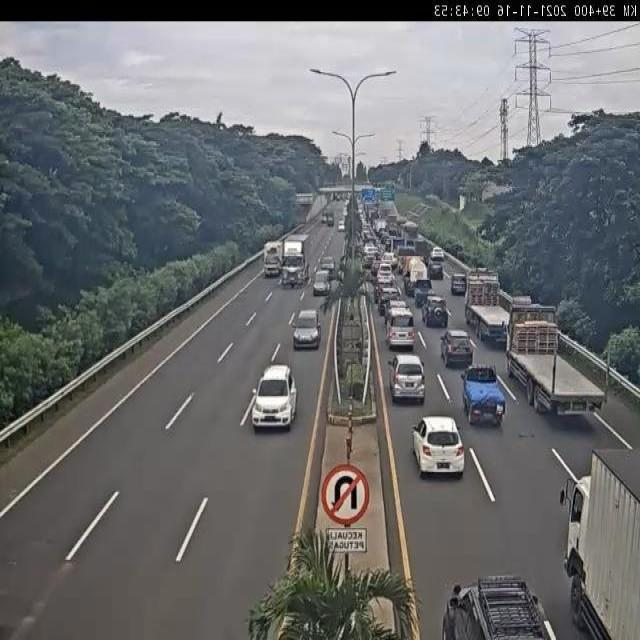Car: (412, 416, 465, 477), (252, 363, 298, 430), (460, 364, 506, 426), (388, 354, 426, 404), (291, 308, 322, 351), (440, 329, 473, 368), (422, 296, 449, 328), (384, 298, 410, 329), (378, 286, 400, 315), (313, 269, 332, 296), (450, 272, 467, 296), (380, 252, 398, 273), (427, 259, 444, 280), (370, 257, 383, 277), (362, 250, 374, 268), (363, 230, 373, 247), (327, 213, 334, 226), (338, 220, 345, 232), (321, 213, 328, 224)
Truck: (564, 447, 638, 637), (508, 299, 604, 417), (466, 258, 516, 339), (280, 236, 308, 287), (402, 256, 428, 297), (264, 240, 284, 278), (388, 235, 405, 255), (366, 204, 379, 224), (386, 214, 398, 234), (383, 235, 393, 250)
